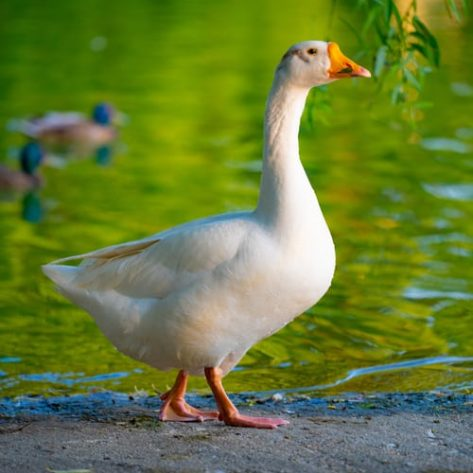goose: (42, 35, 382, 431)
